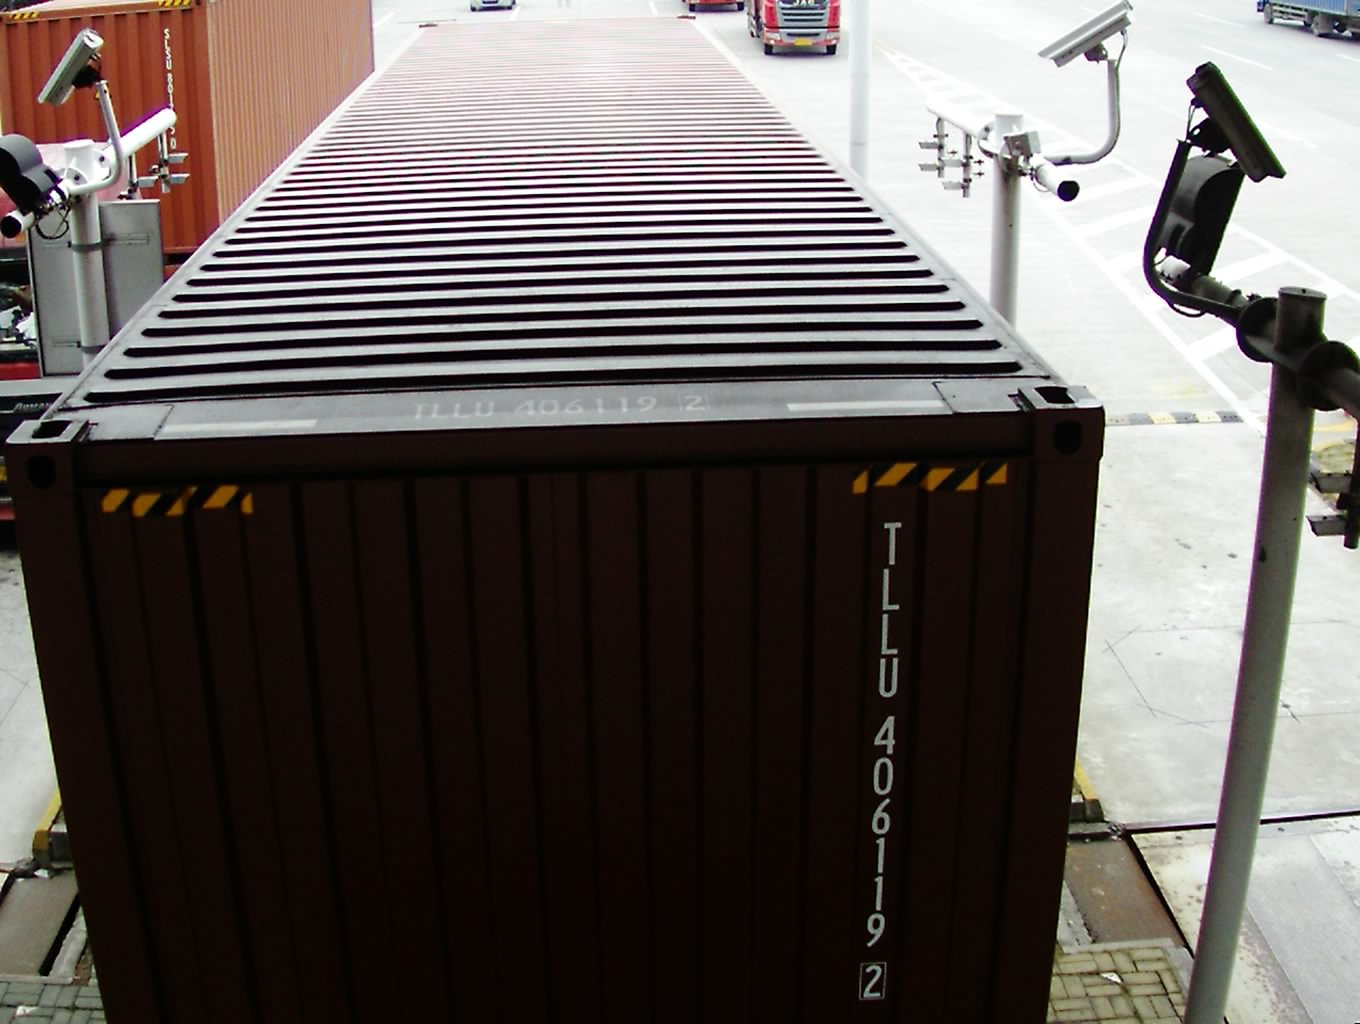words: (861, 512, 908, 1008)
